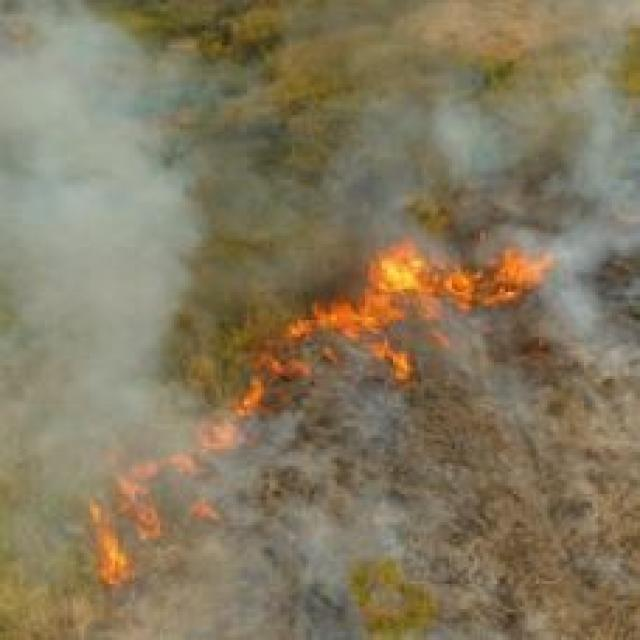Fire: (103, 251, 542, 590)
Smoke: (0, 0, 205, 472), (352, 65, 640, 333), (176, 413, 427, 640)
